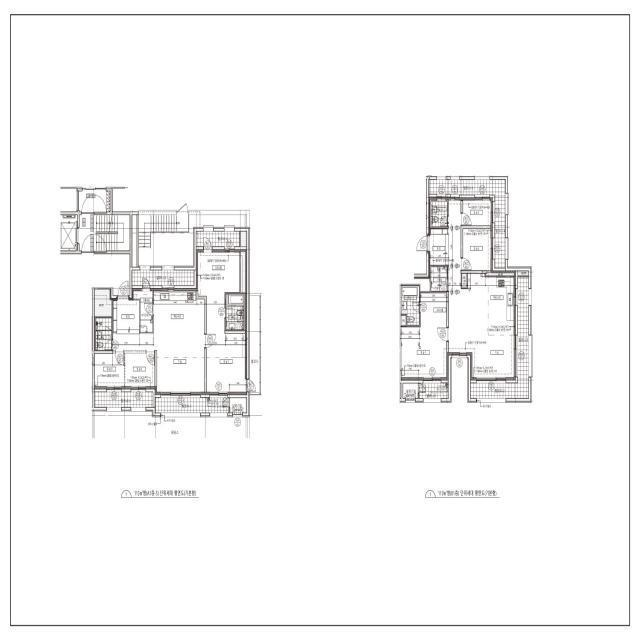space_balconi: (471, 277, 528, 399), (429, 180, 505, 268), (155, 398, 229, 413), (132, 270, 194, 285), (94, 392, 153, 407), (250, 296, 259, 393), (196, 231, 240, 247), (419, 383, 448, 398)
space_bedroom: (207, 296, 247, 395), (401, 327, 448, 380), (463, 229, 493, 270), (125, 354, 155, 389), (95, 354, 124, 389), (463, 198, 493, 225)
space_dressroom: (196, 250, 240, 296), (421, 293, 446, 328)
space_elevator: (60, 215, 77, 251)
space_front: (113, 297, 139, 334), (428, 229, 449, 265)
space_kitchen: (468, 274, 516, 321), (154, 289, 204, 334)
space_living_room: (449, 197, 516, 381), (113, 332, 204, 395)
space_multipurpose_space: (132, 289, 153, 332)
space_other: (94, 289, 112, 316), (60, 189, 77, 212), (431, 267, 447, 291), (401, 279, 430, 291), (113, 189, 128, 212), (241, 250, 247, 293), (132, 215, 136, 267), (486, 271, 516, 276), (241, 231, 247, 247), (462, 274, 467, 287), (518, 271, 528, 276), (401, 316, 406, 325)
space_outdoor_room: (230, 398, 247, 413), (403, 383, 418, 398)
space_staircase: (138, 215, 245, 266), (79, 190, 130, 251)
space_toilet: (401, 286, 419, 325), (226, 294, 244, 330), (96, 318, 112, 350), (431, 201, 447, 227)
